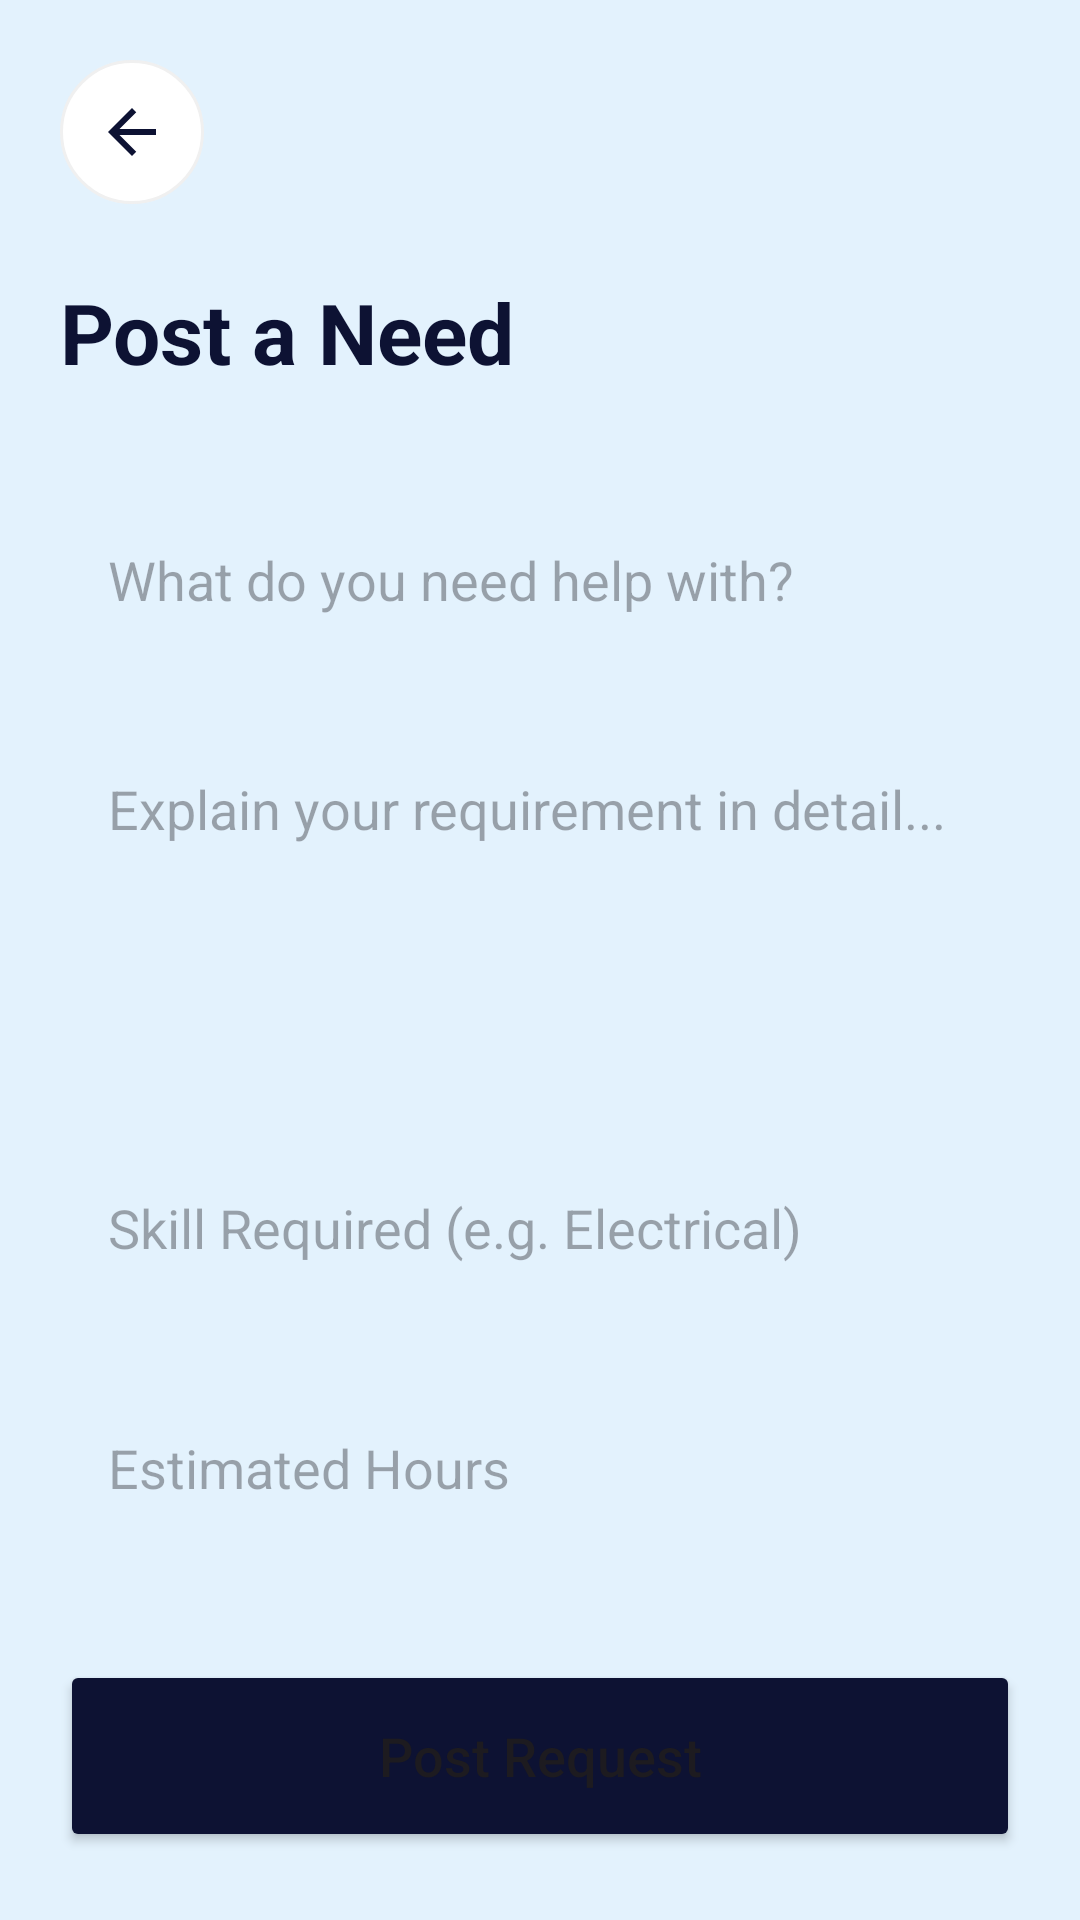

Where icons sit on this 1080px x 1920px app screen, as (x1, y1, x2, y2):
Back: (63, 63, 201, 201)
